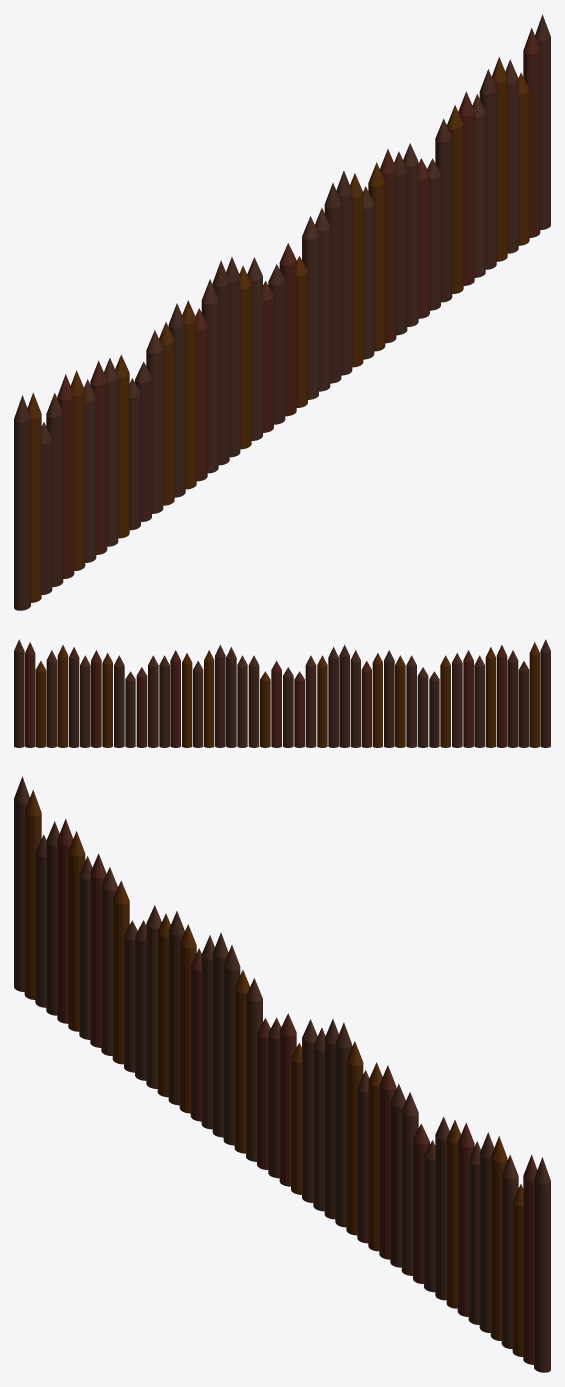
File: Rempart.fbx
The picture shows the model from 3 angles, top to bottom: view 1: azimuth 30°, elevation 25°; view 2: azimuth 150°, elevation 25°; view 3: azimuth 270°, elevation 25°; orthographic projection. The views are drawn at different scales.
Visible parts, largest first — view 1: Cylinder.006; view 2: Cylinder.006; view 3: Cylinder.006.
Part boxes in pixels (x1,y1,x2,y2): Cylinder.006: [14, 14, 550, 610]; Cylinder.006: [14, 639, 550, 747]; Cylinder.006: [14, 776, 550, 1372].
Bounding box in the file's own units: 8.86 × 5.17 × 2.25.
